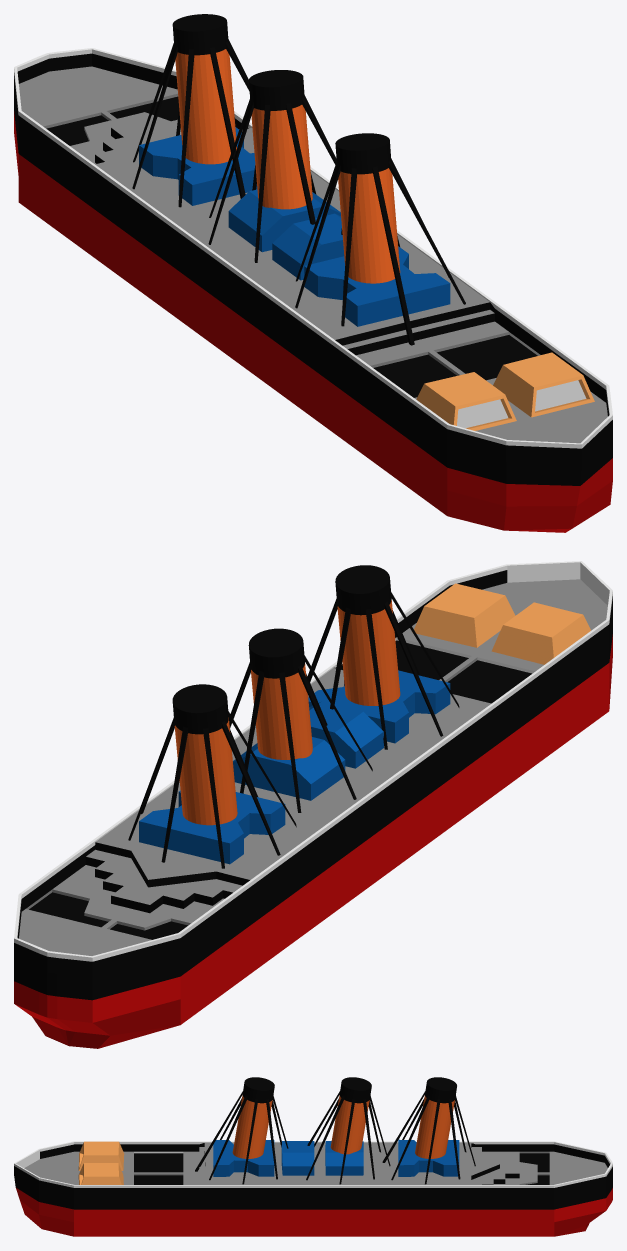
Rendered from Ship.fbx.
3 views of the same model, one above another, from view 1: azimuth 30°, elevation 25°; view 2: azimuth 150°, elevation 25°; view 3: azimuth 270°, elevation 25° (orthographic). The views are drawn at different scales.
Parts seen in each view (by area): view 1: Cube; view 2: Cube; view 3: Cube.
Part boxes in pixels (box(x1,y1,x2,y2)): Cube: box(14, 14, 612, 532); Cube: box(14, 561, 612, 1048); Cube: box(14, 1077, 612, 1236).
Size of what is drawn, in the model's own units: 17.45 by 27.01 by 99.76.
